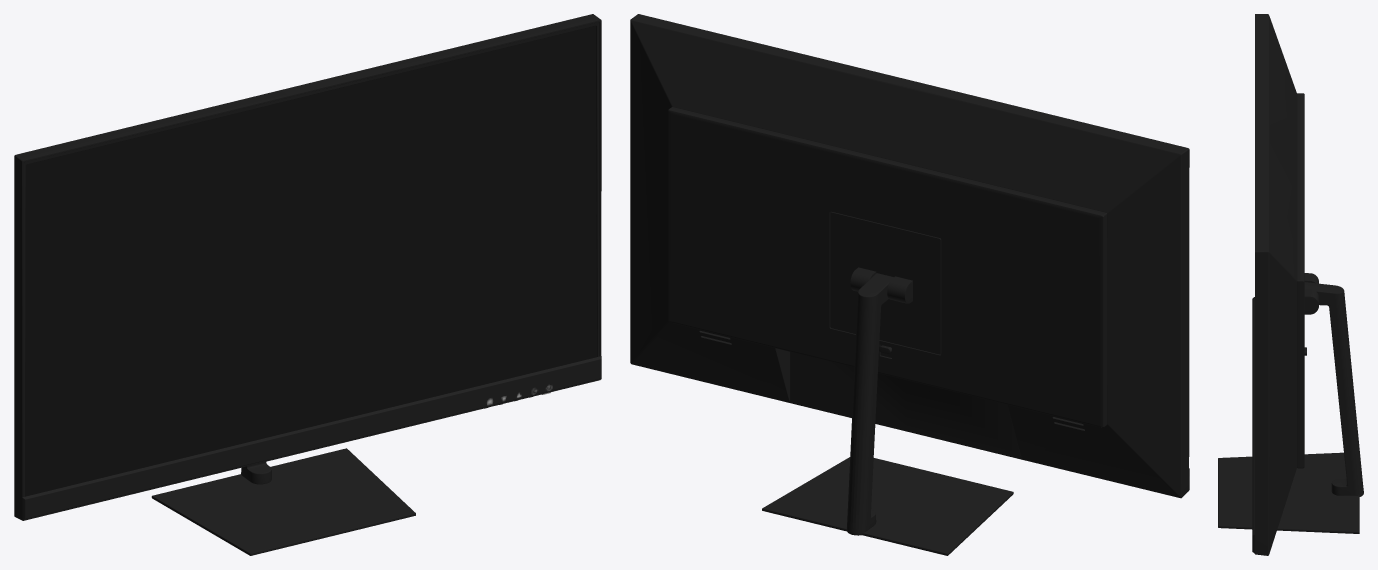
The model's file is Monitor.obj.
3 views of the same model, side by side, from view 1: azimuth 30°, elevation 25°; view 2: azimuth 150°, elevation 25°; view 3: azimuth 270°, elevation 25° (orthographic). The views are drawn at different scales.
Parts seen in each view (by area): view 1: polySurface53; view 2: polySurface53; view 3: polySurface53.
Part boxes in pixels (x1,y1,x2,y2): polySurface53: (14,14,601,555); polySurface53: (630,14,1189,555); polySurface53: (1218,14,1363,555).
Bounding box in the file's own units: 61.29 × 43.43 × 15.87.
1 material, 1 textured.
